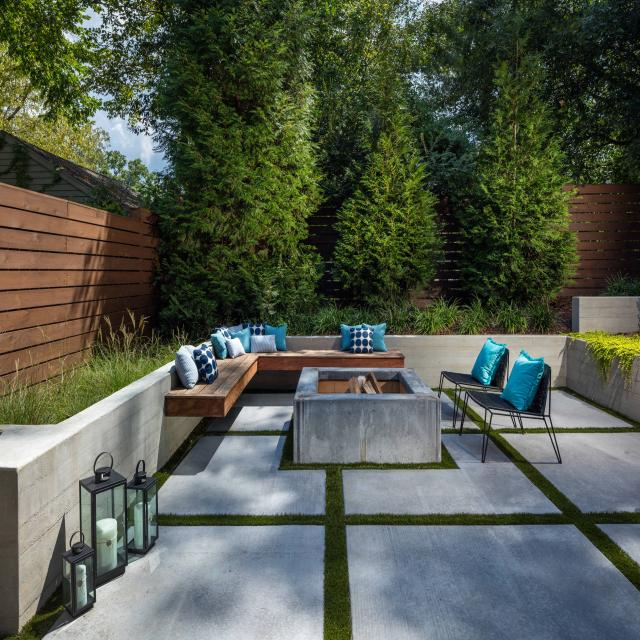Concrete: (40, 296, 640, 640), (0, 365, 172, 640)
